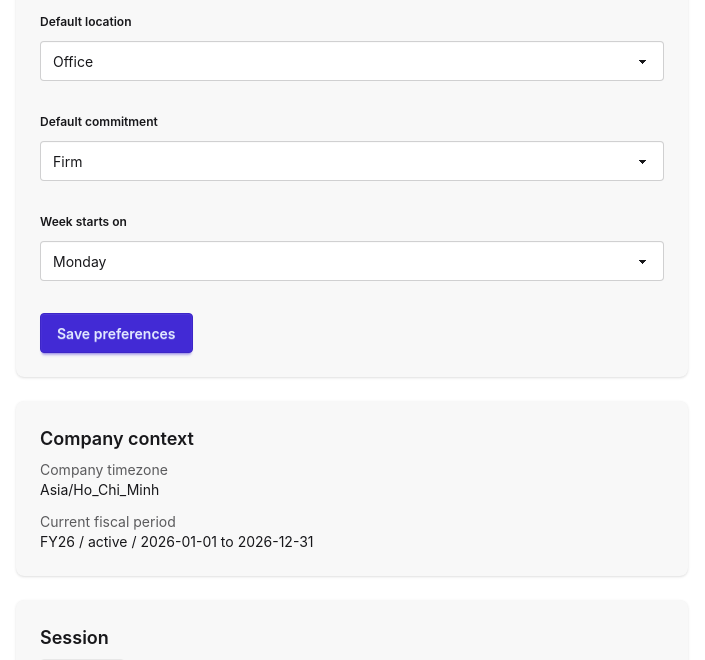
Test case: Phase 3 page contracts › keeps settings editable when a versioned preference save fails
This screenshot has width=705, height=660.
(page scrolled)
Expected: the text "Asia/Ho_Chi_Minh" is shown, [40, 481, 159, 498]
Click the button "Save preferences": click(116, 333) [40, 313, 192, 353]
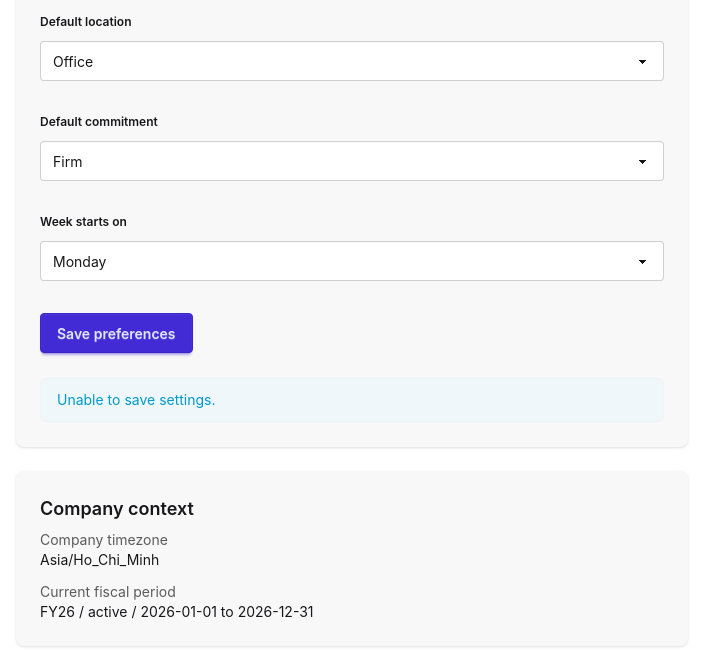
Result: the message reads "Unable to save settings." at [57, 391, 216, 408]
